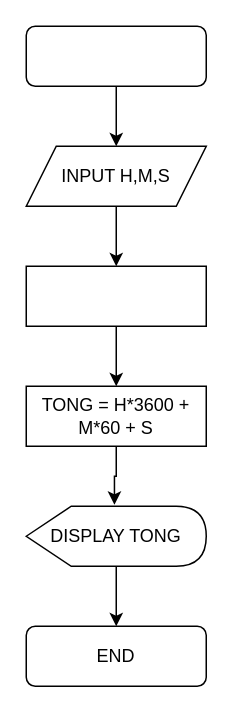
Image size: 233x713. Some labels were removed from this diagram. Each missing label, with the centre of its shape:
"BEGIN" goes at (115,55).
"TONG = 0" goes at (115,295).
